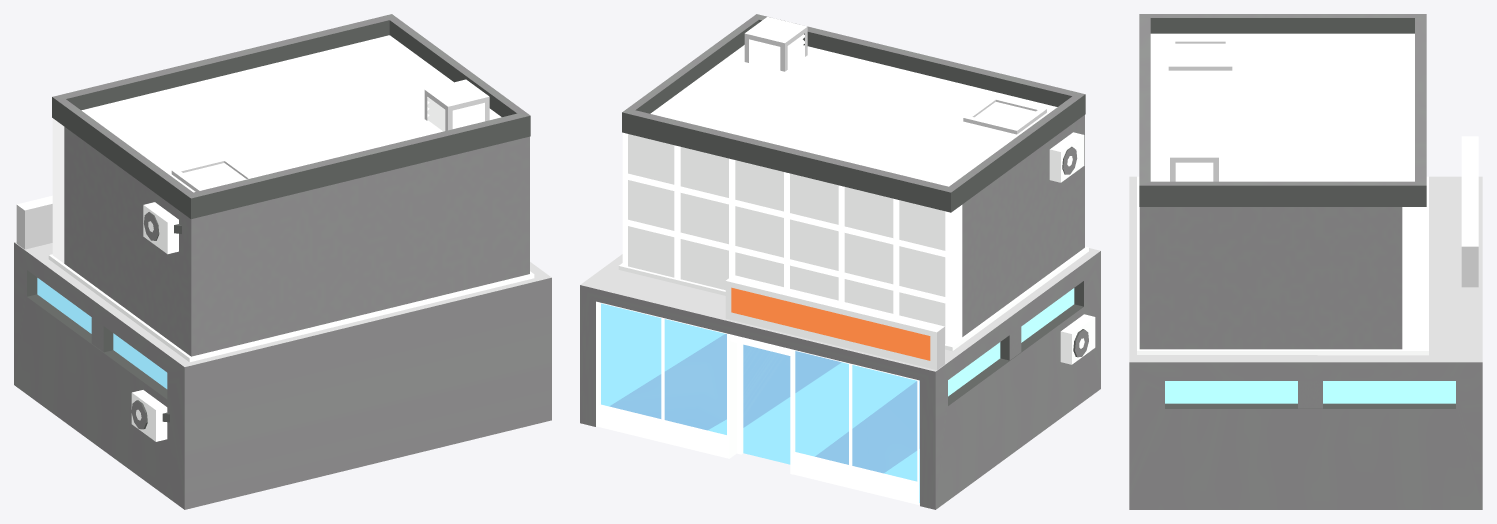
The model's file is supermarket.005.glb.
The picture shows the model from 3 angles, left to right: view 1: azimuth 30°, elevation 25°; view 2: azimuth 150°, elevation 25°; view 3: azimuth 270°, elevation 25°; orthographic projection. The views are drawn at different scales.
Parts seen in each view (by area): view 1: supermarket.005(Clone); view 2: supermarket.005(Clone); view 3: supermarket.005(Clone).
Part boxes in pixels (x1=…): supermarket.005(Clone): x1=14, y1=14, x2=551, y2=509; supermarket.005(Clone): x1=580, y1=14, x2=1100, y2=509; supermarket.005(Clone): x1=1129, y1=14, x2=1482, y2=509.
Bounding box in the file's own units: 7.38 × 5.93 × 5.74.
1 material, 1 textured.
